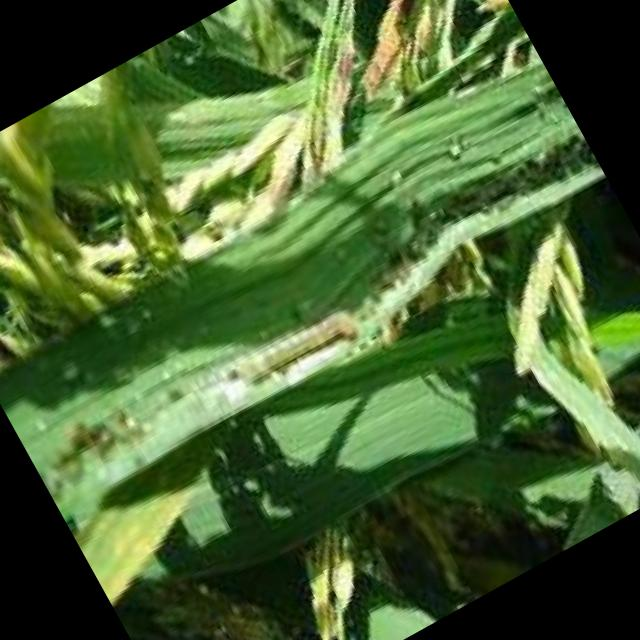leaf-folder: (222, 272, 394, 422)
